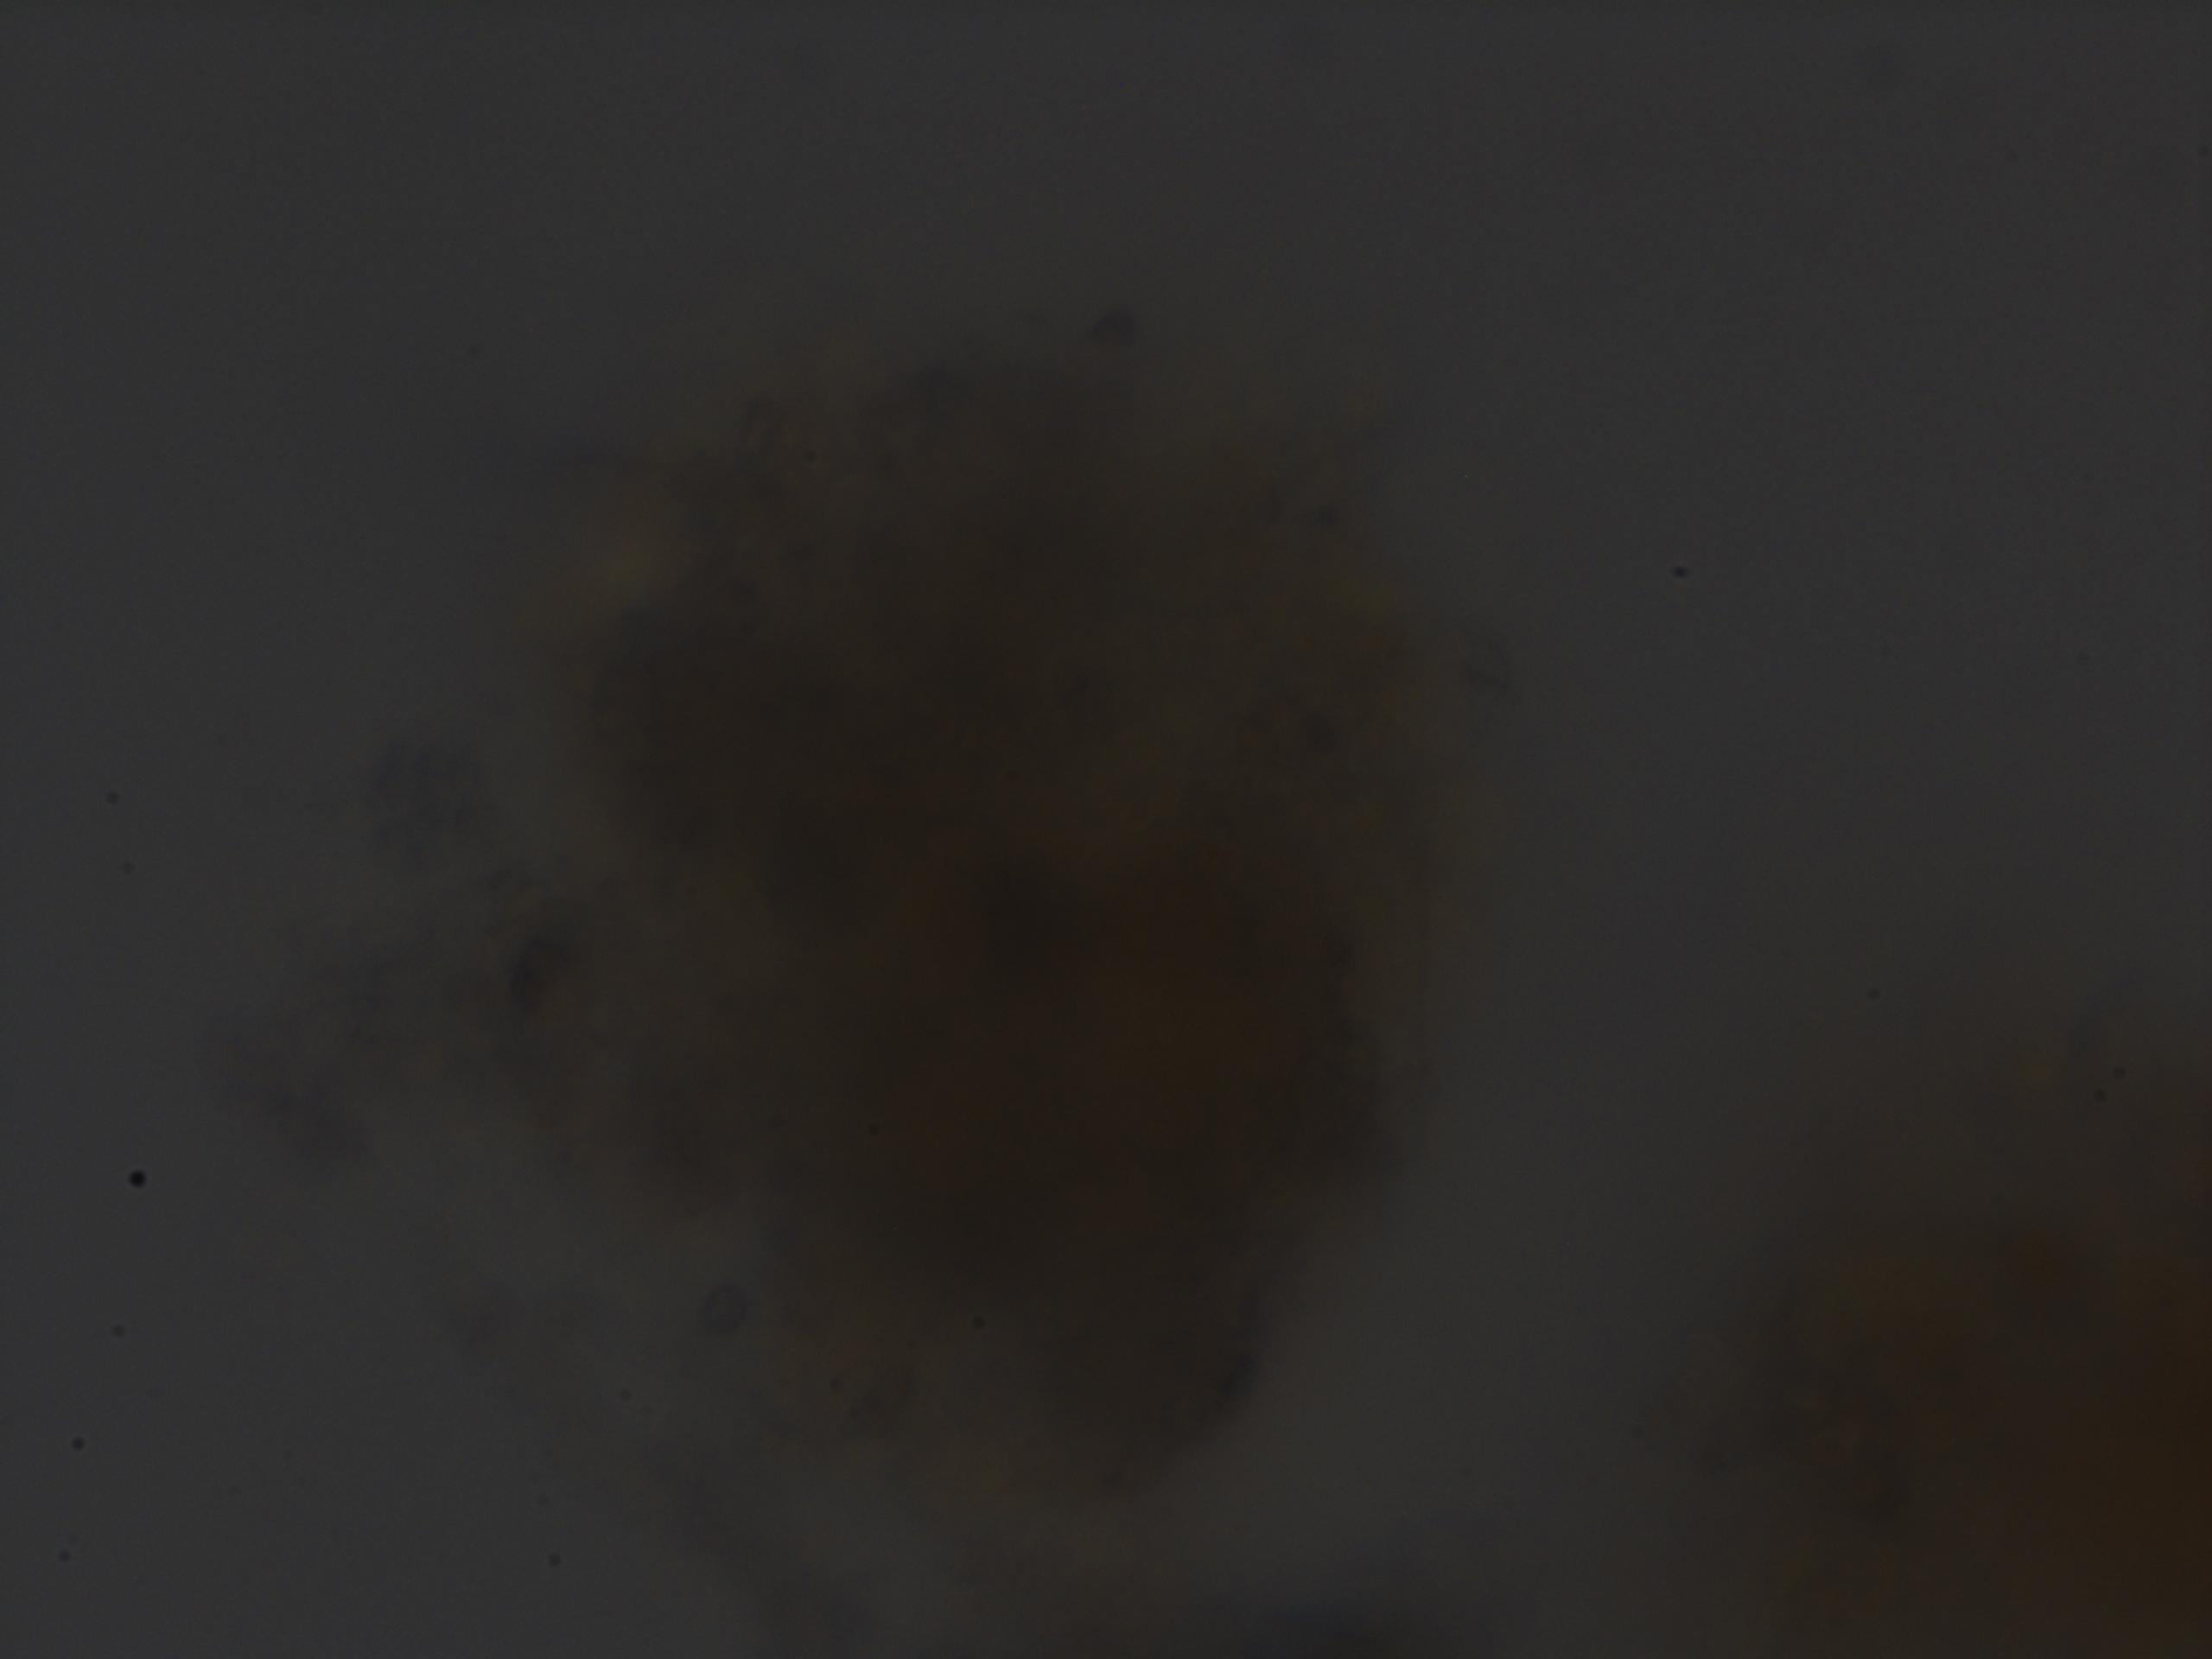spherical_floc: (435, 253, 1487, 1530)
